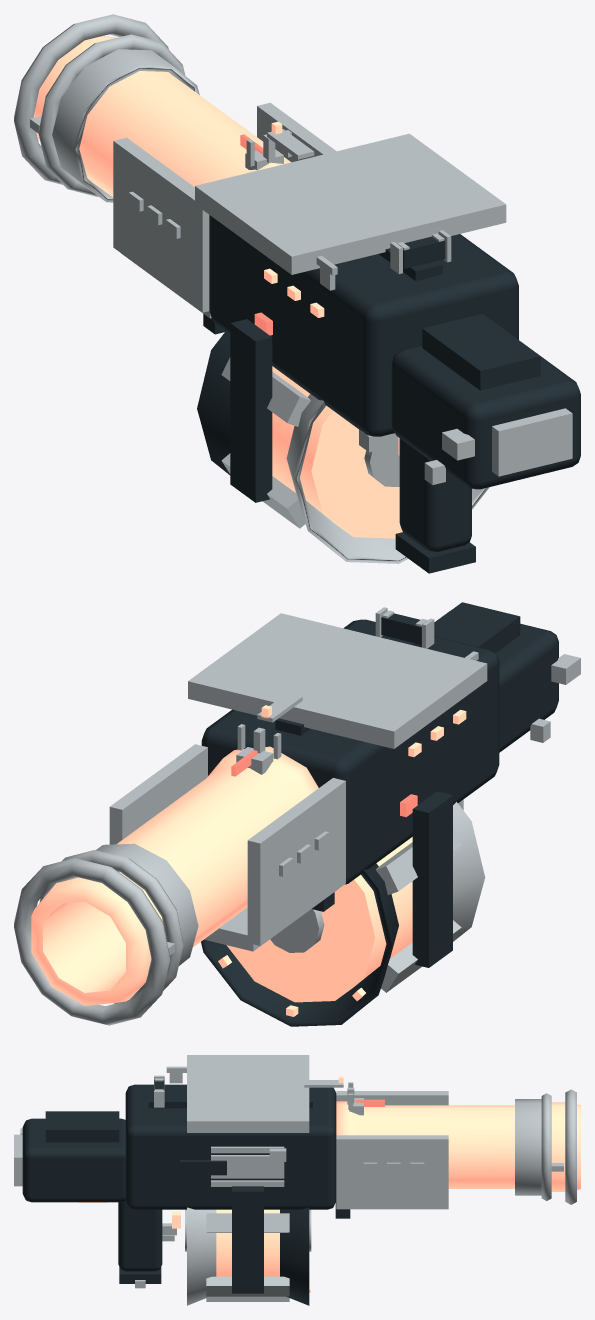
File: weapon-5.glb
3 renders of one model, top to bottom at view 1: azimuth 30°, elevation 25°; view 2: azimuth 150°, elevation 25°; view 3: azimuth 270°, elevation 25°, orthographic. The views are drawn at different scales.
Parts seen in each view (by area): view 1: WorldBatch2, WorldBatch0, WorldBatch1; view 2: WorldBatch2, WorldBatch0, WorldBatch1, WorldBatch3; view 3: WorldBatch0, WorldBatch2, WorldBatch1.
Boxes of the visible parts, x1,y1,x2,y2 form: WorldBatch2: [14, 14, 572, 563]; WorldBatch0: [197, 215, 580, 573]; WorldBatch1: [33, 36, 402, 538]; WorldBatch2: [14, 607, 580, 1025]; WorldBatch0: [201, 602, 558, 1026]; WorldBatch1: [31, 705, 466, 1016]; WorldBatch3: [231, 750, 417, 817]; WorldBatch0: [22, 1079, 350, 1305]; WorldBatch2: [14, 1055, 576, 1305]; WorldBatch1: [78, 1076, 580, 1292].
Size of the model in its own units: 0.321 by 0.5 by 1.16.
